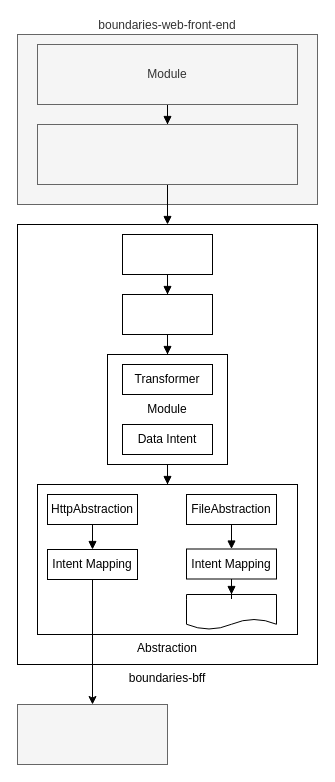
The diagram is 335 pixels wide and 782 high, and some of its shapes have lost their labels. Here are the shapes that lost their labels. From the top down, the centre of each, then its label:
At [167,154]: "HttpIntegration".
At [167,254]: "Express.js".
At [167,314]: "Router".
At [231,612]: "JSON Files".
At [92,734]: "Capability A...N".
